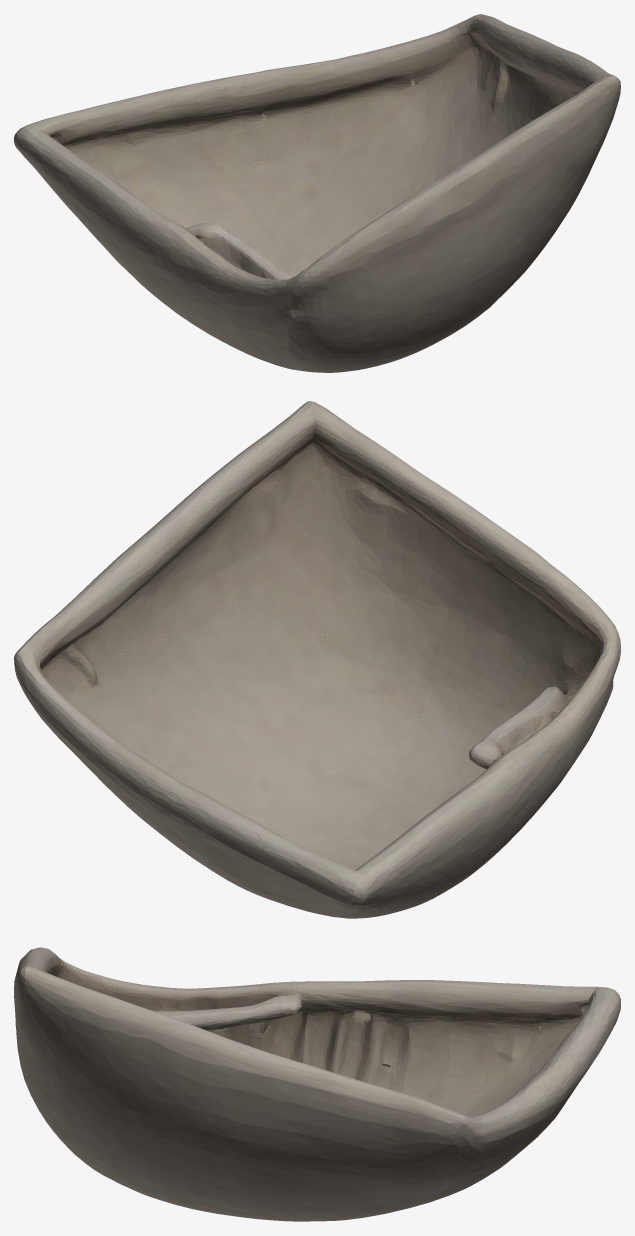
File: woven_basket_on_floor_near_jars_000.glb
3 views of the same model, one above another, from view 1: azimuth 30°, elevation 25°; view 2: azimuth 150°, elevation 25°; view 3: azimuth 270°, elevation 25° (orthographic). The views are drawn at different scales.
Visible parts, largest first — view 1: woven_basket_on_floor_near_jars_000.obj; view 2: woven_basket_on_floor_near_jars_000.obj; view 3: woven_basket_on_floor_near_jars_000.obj.
Part boxes in pixels (x1,y1,x2,y2): woven_basket_on_floor_near_jars_000.obj: (14,14,620,372); woven_basket_on_floor_near_jars_000.obj: (14,401,620,918); woven_basket_on_floor_near_jars_000.obj: (14,947,620,1221).
Size of the model in its own units: 0.1462 by 0.104 by 0.176.
1 material, 1 textured.
